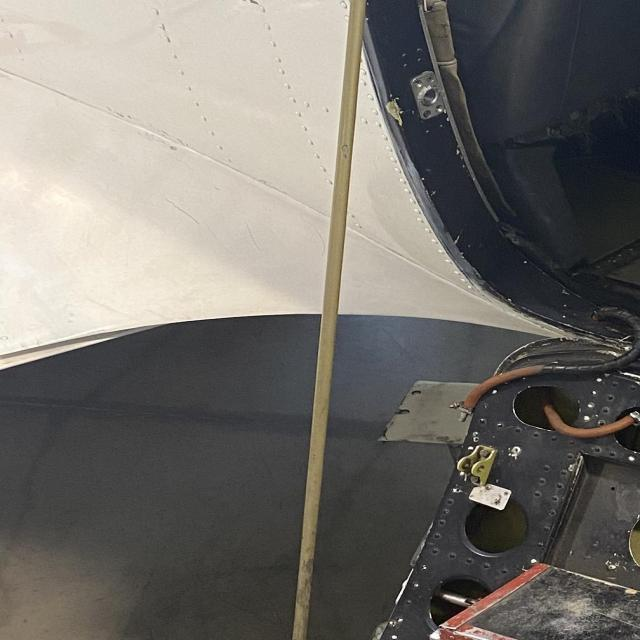Paint-off: (114, 110, 130, 121), (166, 142, 180, 154)
Scratch: (162, 194, 202, 226), (240, 218, 264, 252)
